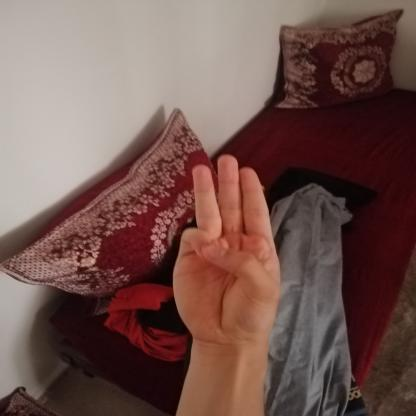THA: (155, 143, 293, 358)
